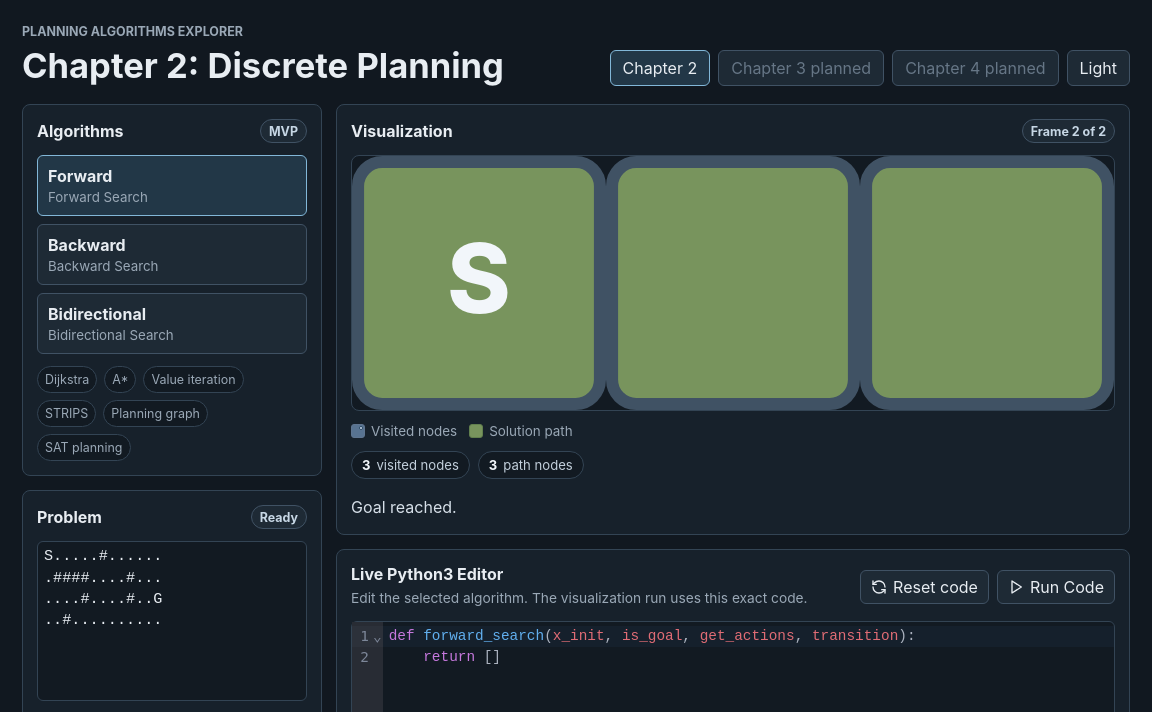
Scenario: App › uses dark theme by default and toggles the whole app theme
The image size is (1152, 712).
Expected: the text "Frame 2 of 2" is shown, [1022,119,1115,143]
Click the button with aria-label "Toggle app theme". click: (1098, 68)
box: [1067,50,1130,86]
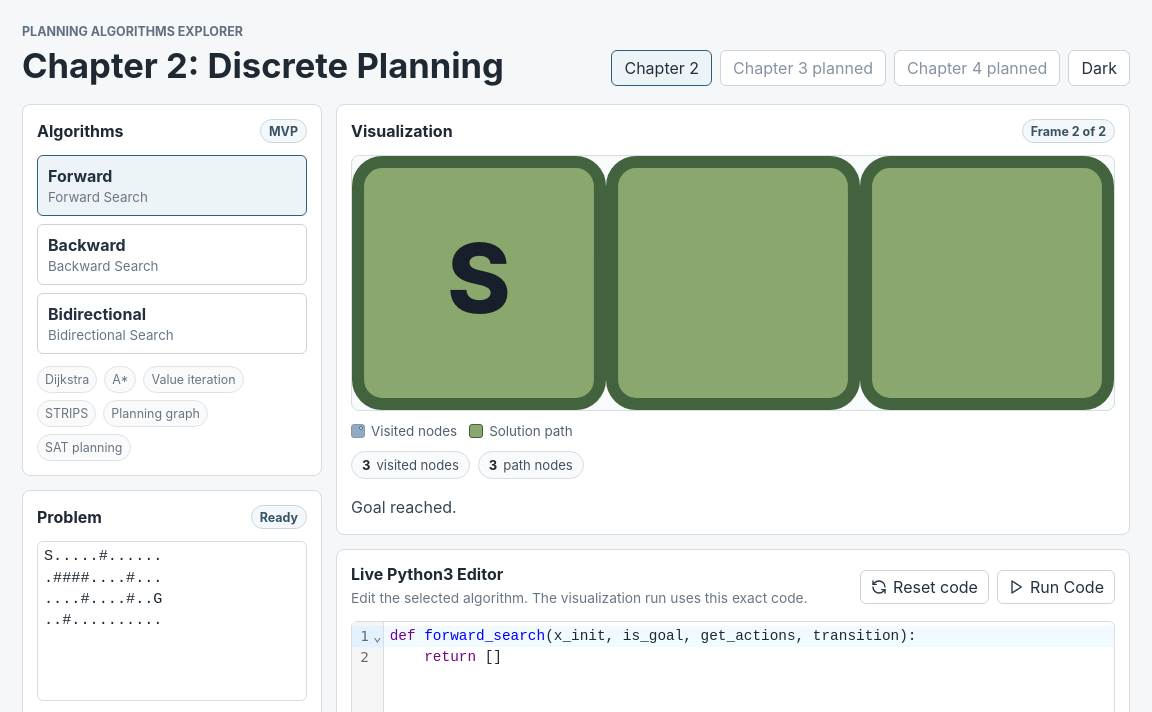
Expected: the button with aria-label "Toggle app theme" reads "Dark", [1068,50,1130,86]
